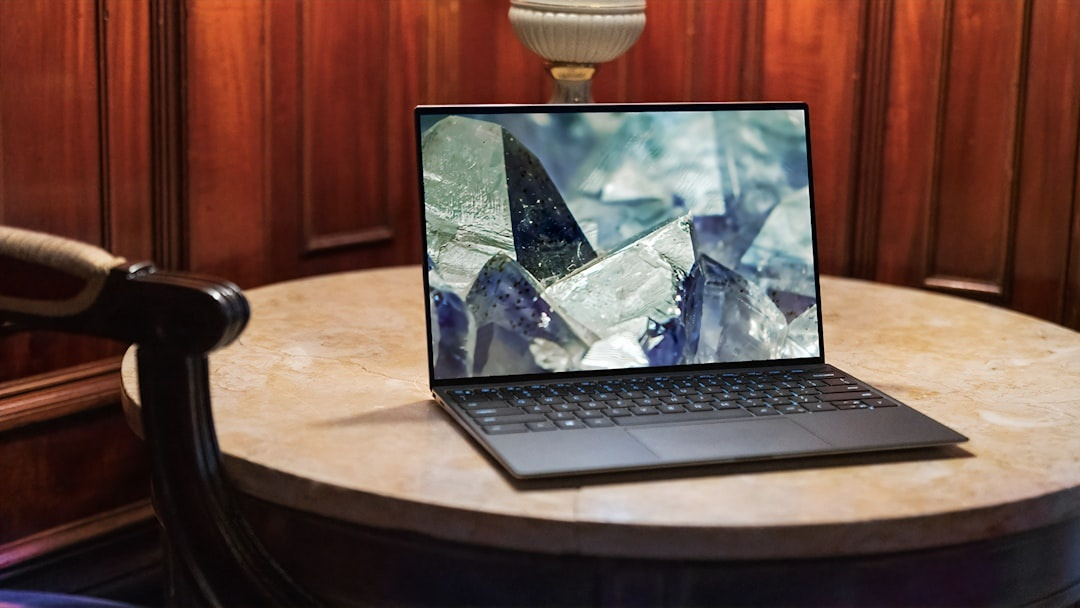laptop: (381, 82, 1001, 493)
